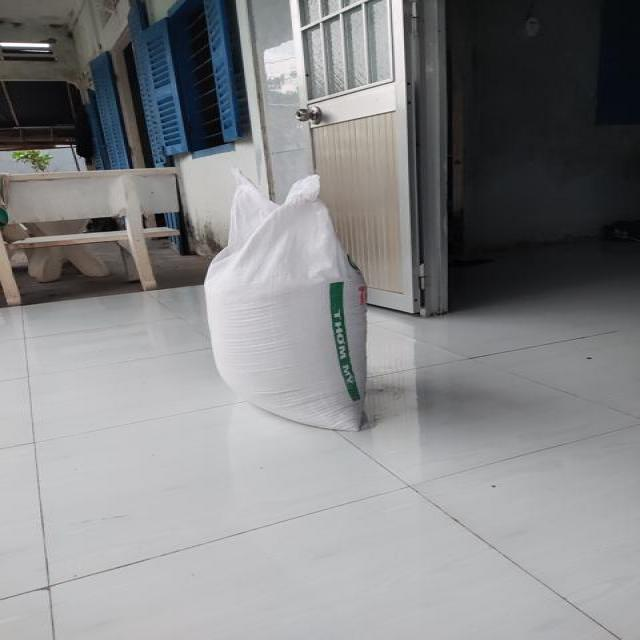gunny_bag: (205, 174, 367, 432)
